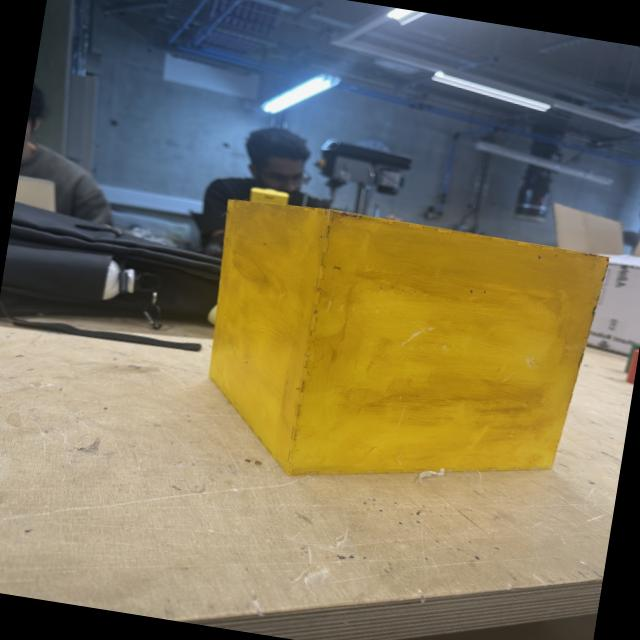yellow_bin: (187, 195, 611, 522)
